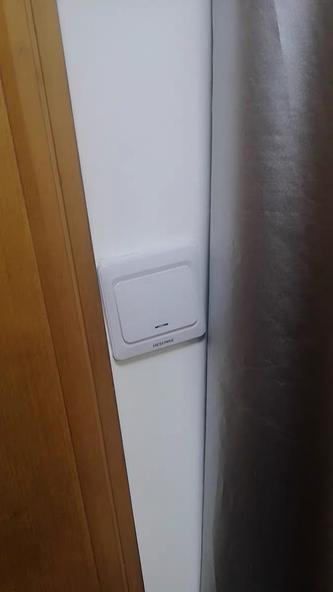switch: (118, 283, 198, 326)
